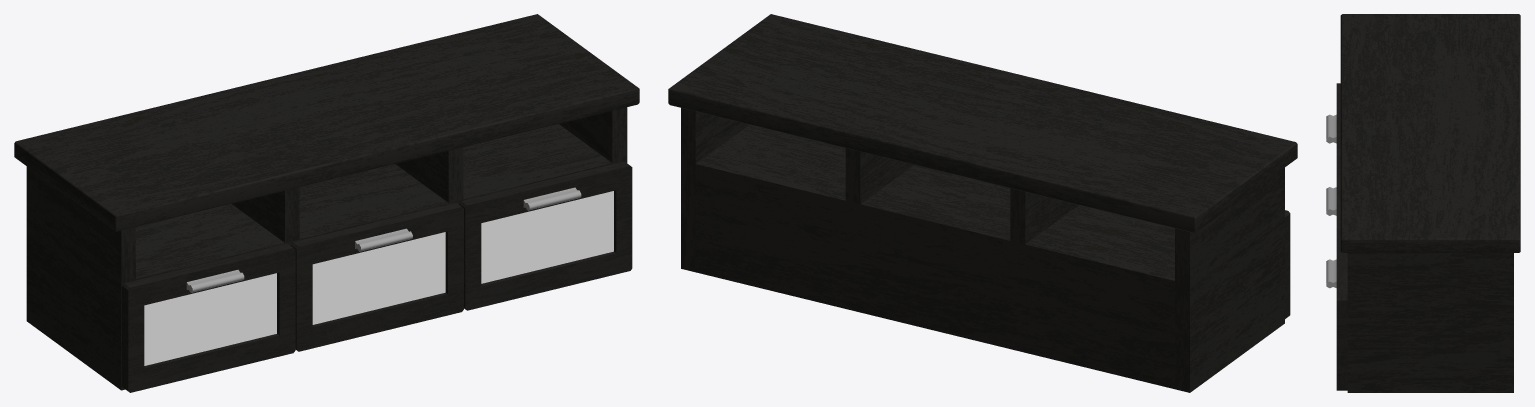
Rendered from dresser_025.fbx.
The picture shows the model from 3 angles, left to right: view 1: azimuth 30°, elevation 25°; view 2: azimuth 150°, elevation 25°; view 3: azimuth 270°, elevation 25°; orthographic projection. The views are drawn at different scales.
Parts seen in each view (by area): view 1: dresser_025; view 2: dresser_025; view 3: dresser_025.
Boxes of the visible parts, box(x1,y1,x2,y2) form: dresser_025: box(14, 14, 639, 392); dresser_025: box(668, 14, 1297, 392); dresser_025: box(1326, 14, 1520, 392).
Bounding box in the file's own units: 228 × 83.15 × 74.62.
